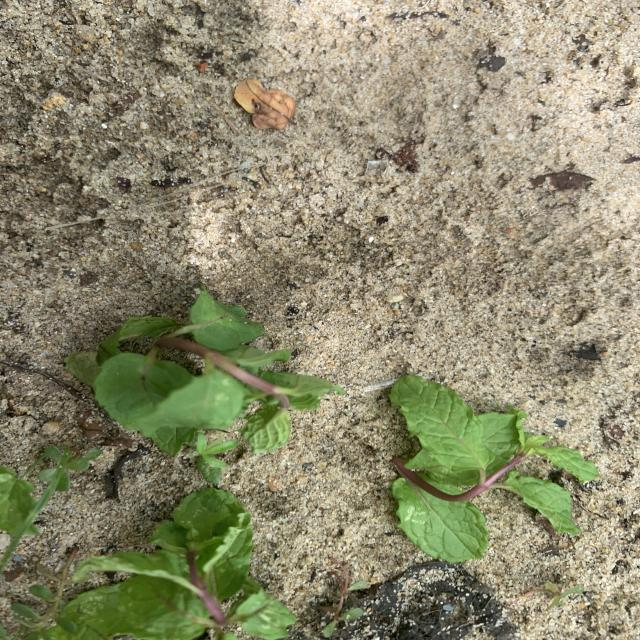crop: (69, 288, 340, 454), (389, 376, 599, 561), (53, 488, 295, 639)
weed: (11, 551, 73, 639), (322, 558, 366, 636), (37, 445, 100, 490), (189, 431, 238, 483), (529, 581, 583, 609)
